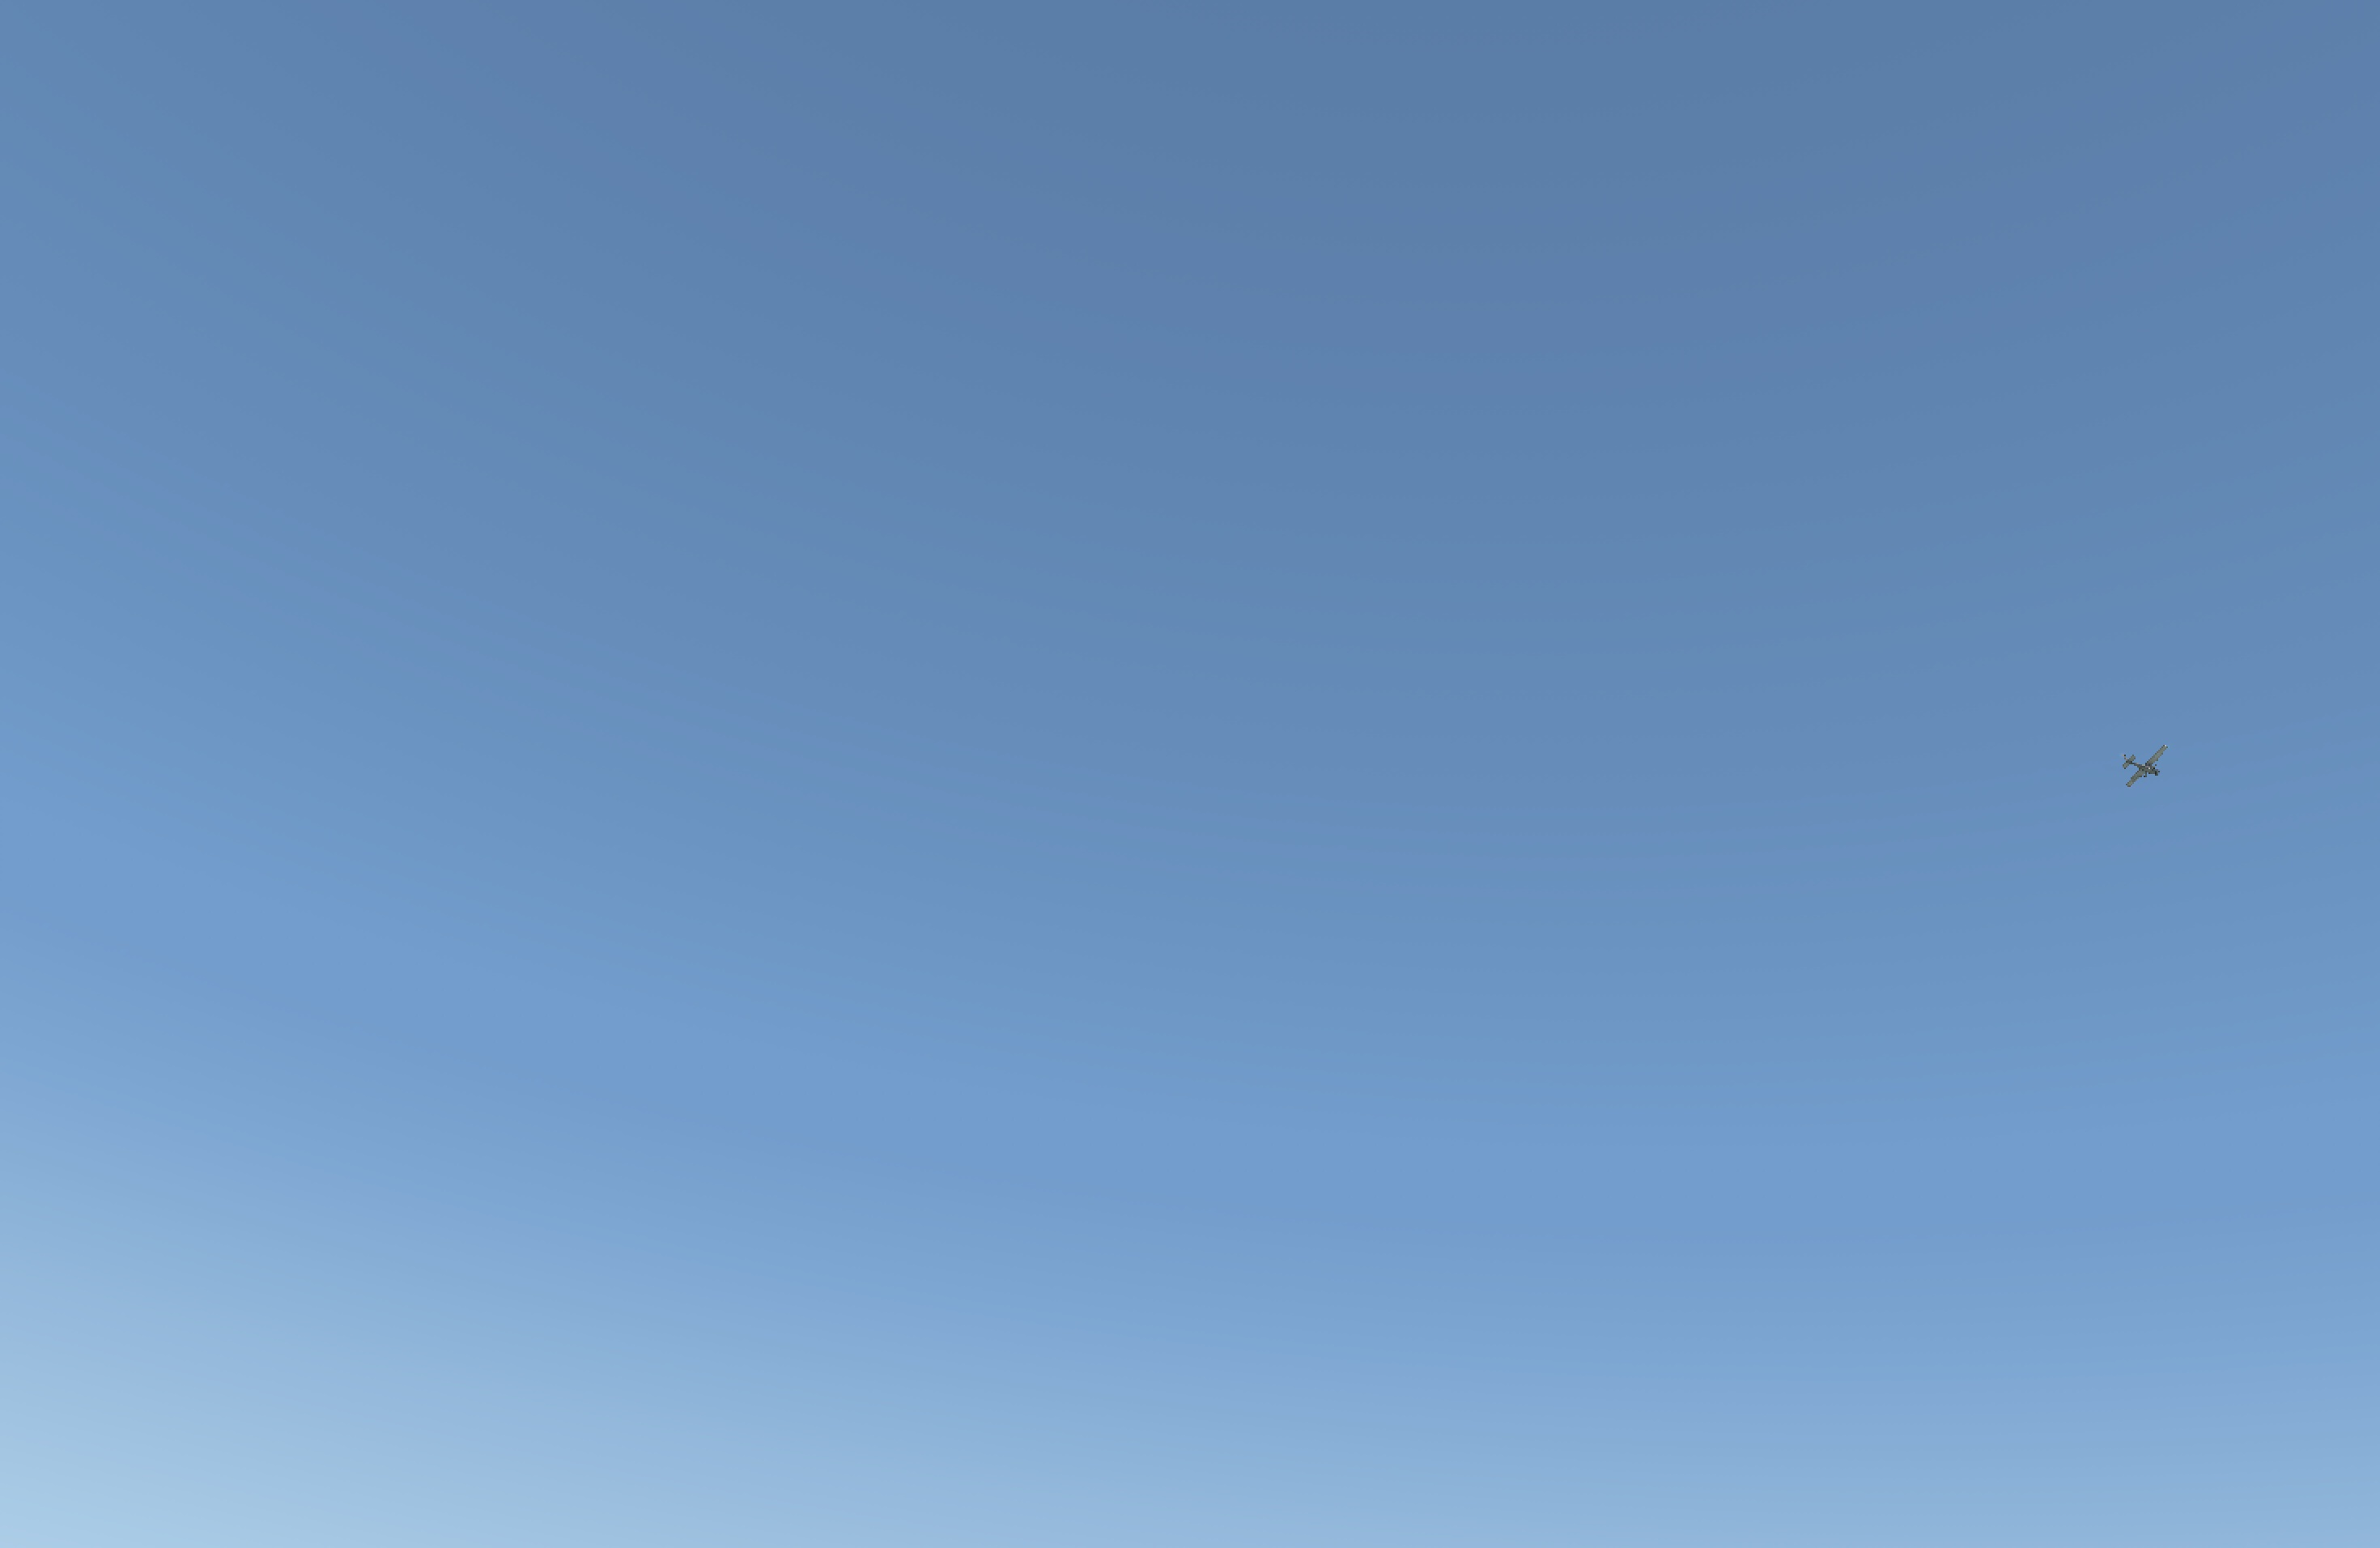aircraft: (2130, 762, 2168, 776)
